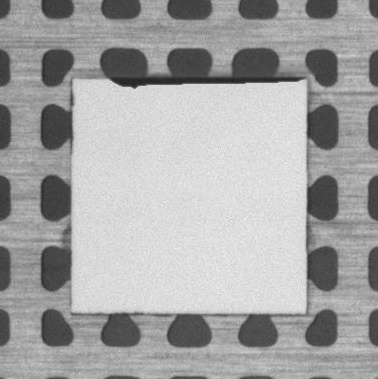DIE_BROKEN: (104, 73, 307, 91)
